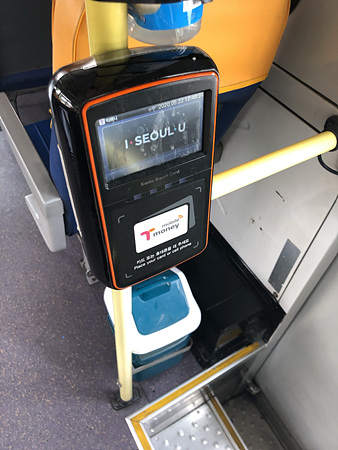terminal: (50, 43, 215, 270)
